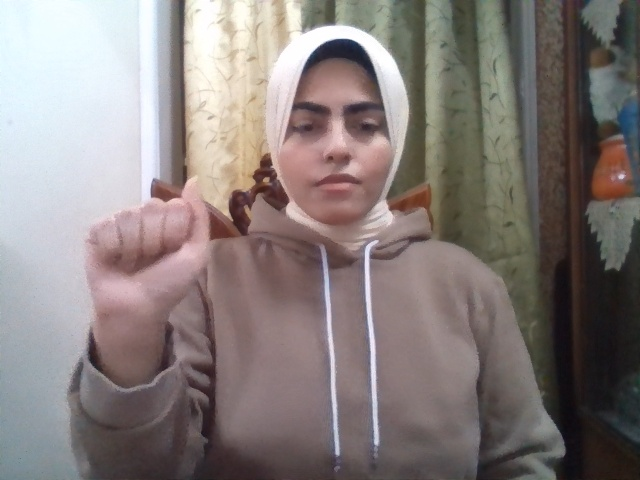A: (85, 177, 210, 326)
